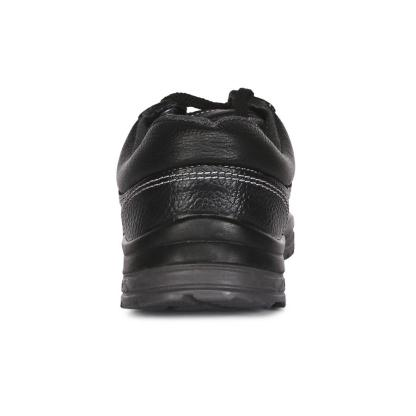bota: (111, 86, 301, 316)
